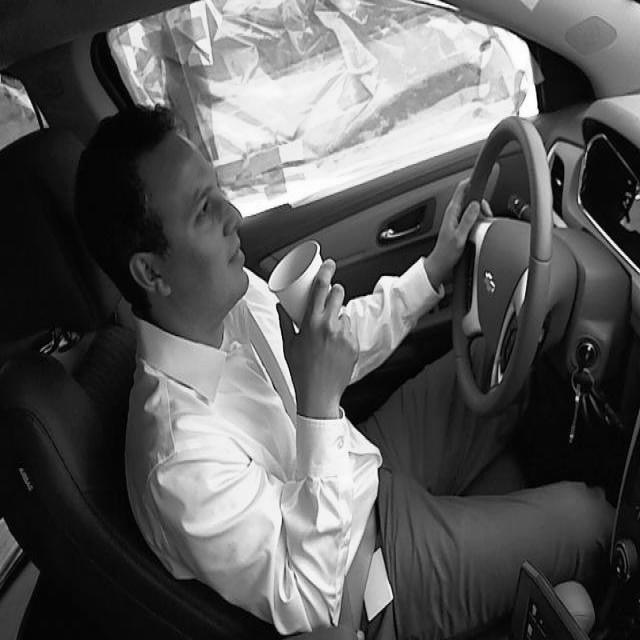Drinking: (272, 240, 343, 323)
